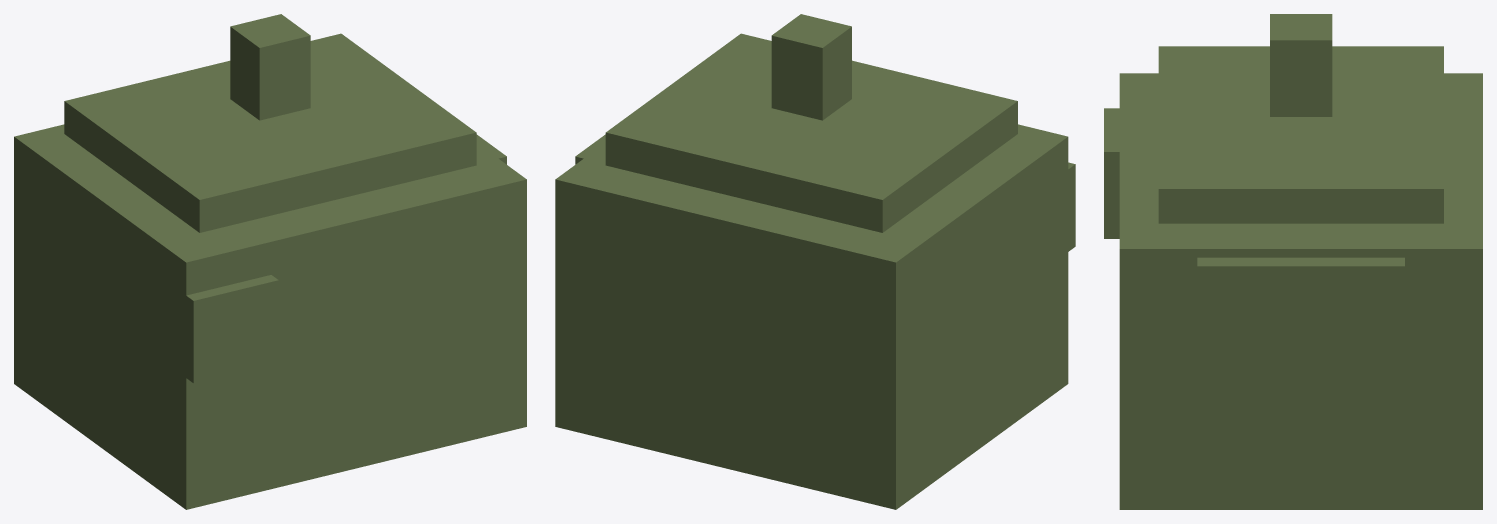
Rendered from fermenter.glb.
The picture shows the model from 3 angles, left to right: view 1: azimuth 30°, elevation 25°; view 2: azimuth 150°, elevation 25°; view 3: azimuth 270°, elevation 25°; orthographic projection. The views are drawn at different scales.
Parts seen in each view (by area): view 1: module.fermenter; view 2: module.fermenter; view 3: module.fermenter.
Part boxes in pixels (bbox=[...]): module.fermenter: bbox=[14, 14, 526, 509]; module.fermenter: bbox=[555, 14, 1075, 509]; module.fermenter: bbox=[1104, 14, 1482, 509].
Size of the model in its own units: 1 by 1 by 0.869.
